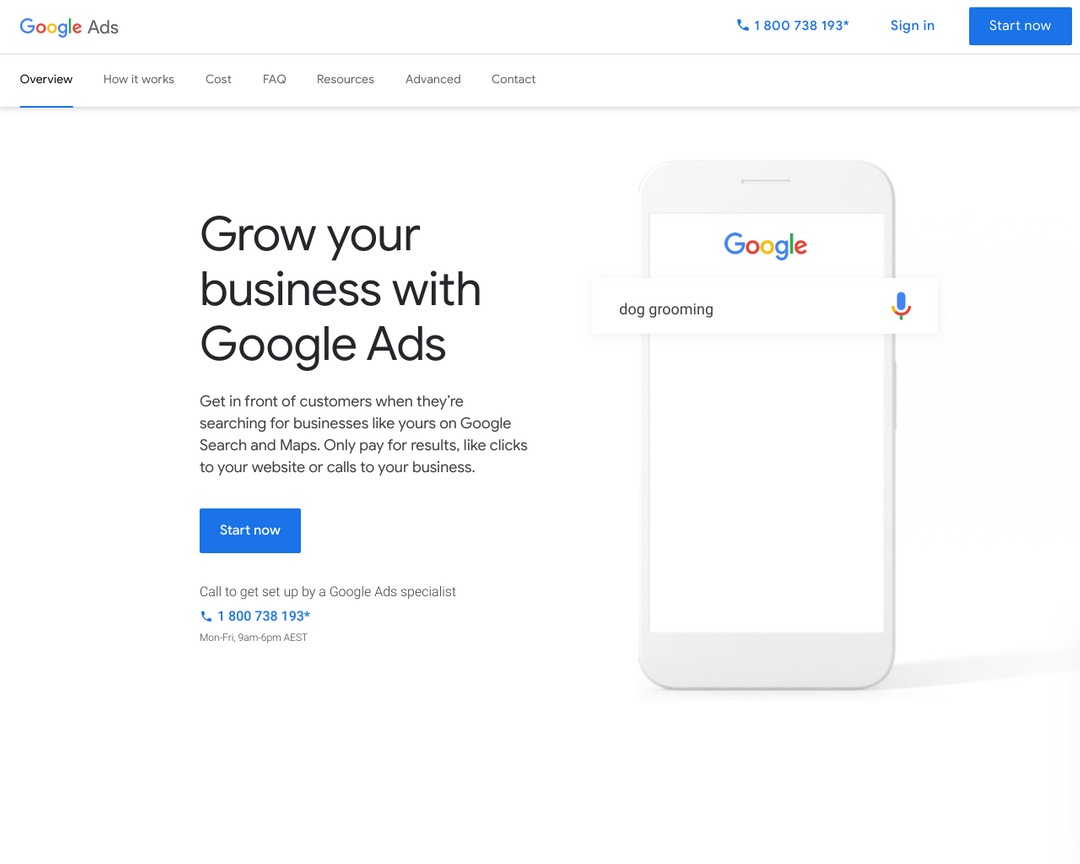Google: (721, 227, 809, 268), (19, 16, 84, 38)
